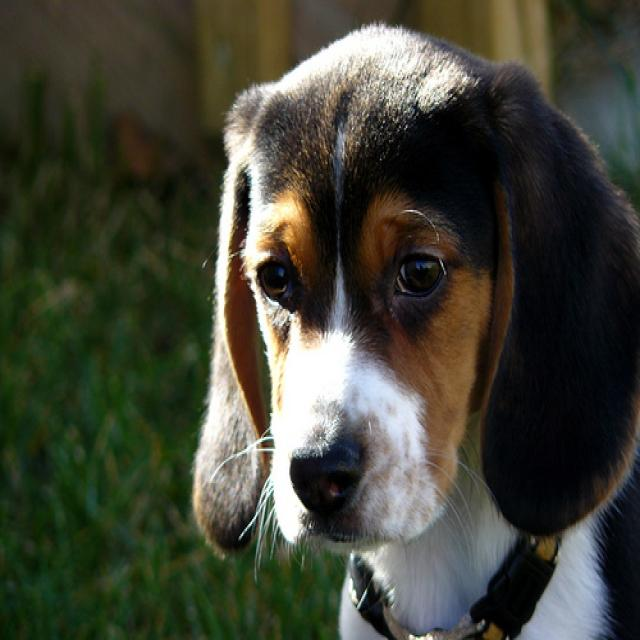dog-beagle: (180, 2, 637, 637)
